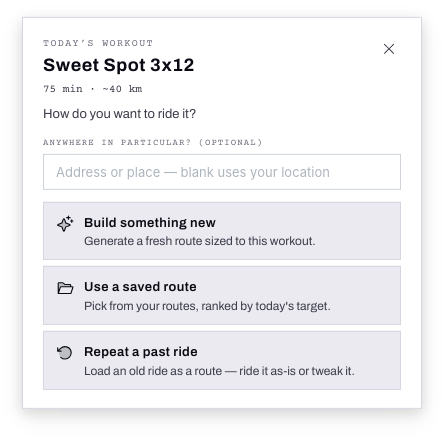
Scenario: WorkoutArrivalCard › shows a fit badge and moving time on ranked rides
What coordinates should you click on to do the following:
click the button with test id "rb2-workout-arrival-past"
I would click on:
 (222, 361)
Its box is [43,331,401,390].
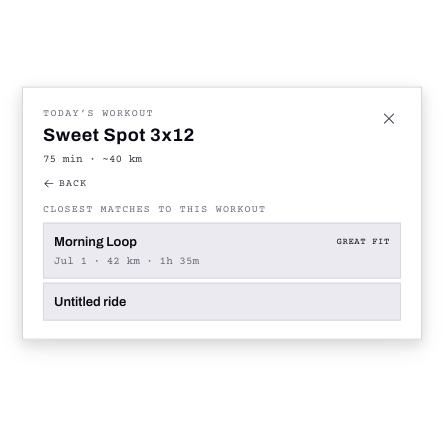
Expected: the text with test id "rb2-workout-arrival-ride-fit-a1" reads "Great fit", [337,236,390,246]
Expected: the button with test id "rb2-workout-arrival-ride-a1" shows "1h 35m", [43,223,401,278]
